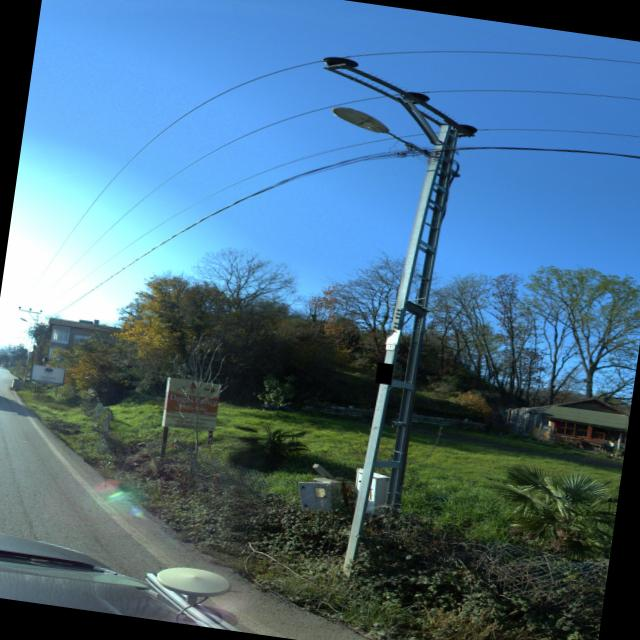Utility Pole Information Plate: (375, 365, 394, 385)
